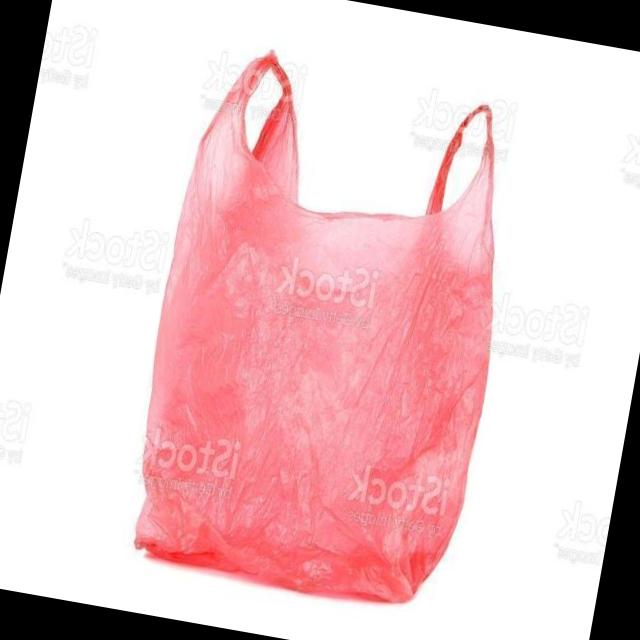KantongPlastik: (115, 37, 539, 618)
